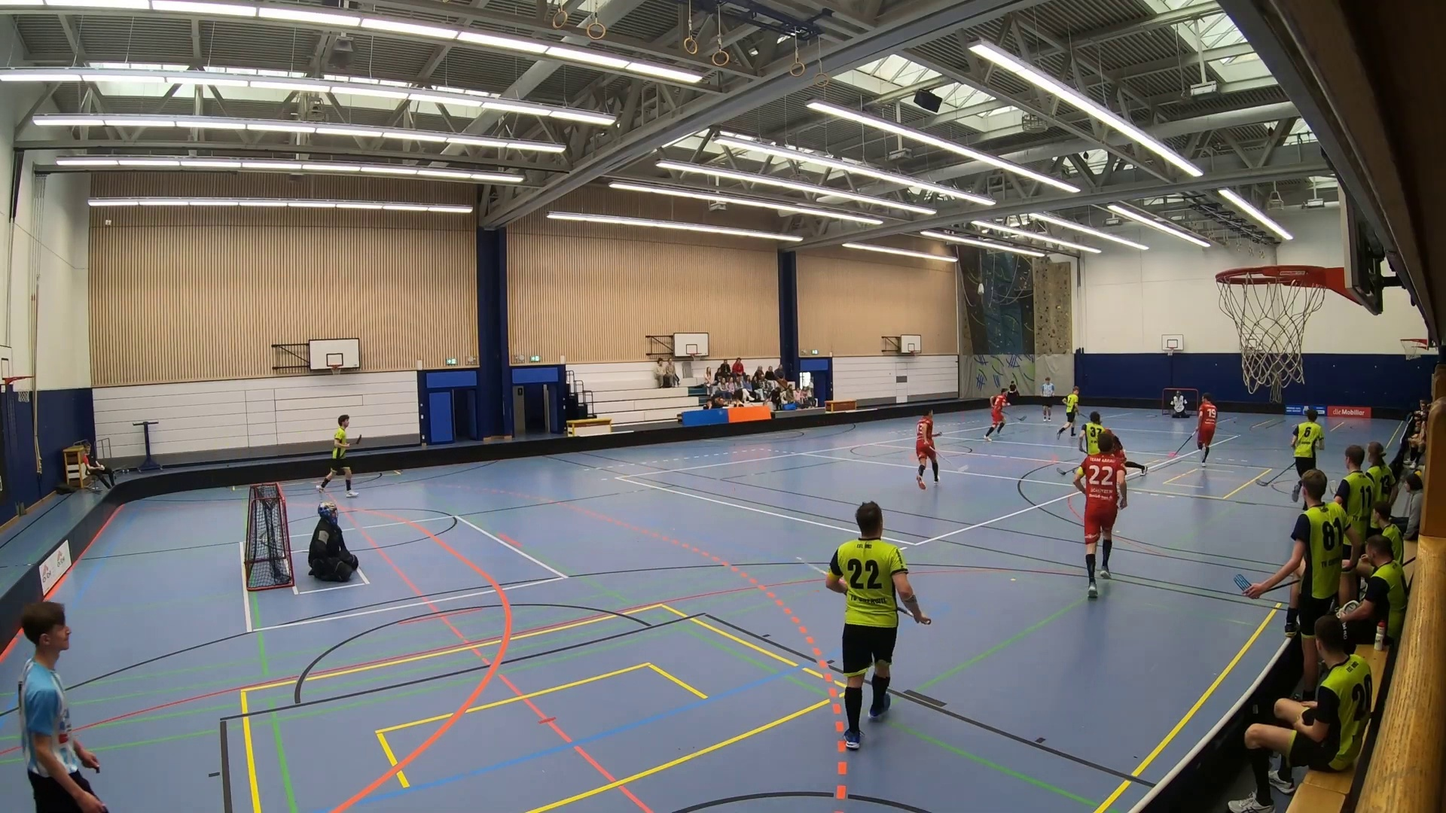Schiri: (10, 572, 103, 813), (1255, 400, 1326, 512), (1168, 388, 1228, 481), (1053, 385, 1088, 440), (1036, 374, 1060, 425)
goalkeeper: (291, 497, 369, 593), (1162, 385, 1191, 421)
player: (782, 490, 951, 766), (1059, 428, 1127, 622), (305, 403, 367, 506), (904, 403, 974, 493), (978, 383, 1026, 450), (1115, 429, 1150, 482), (1077, 411, 1108, 461)
